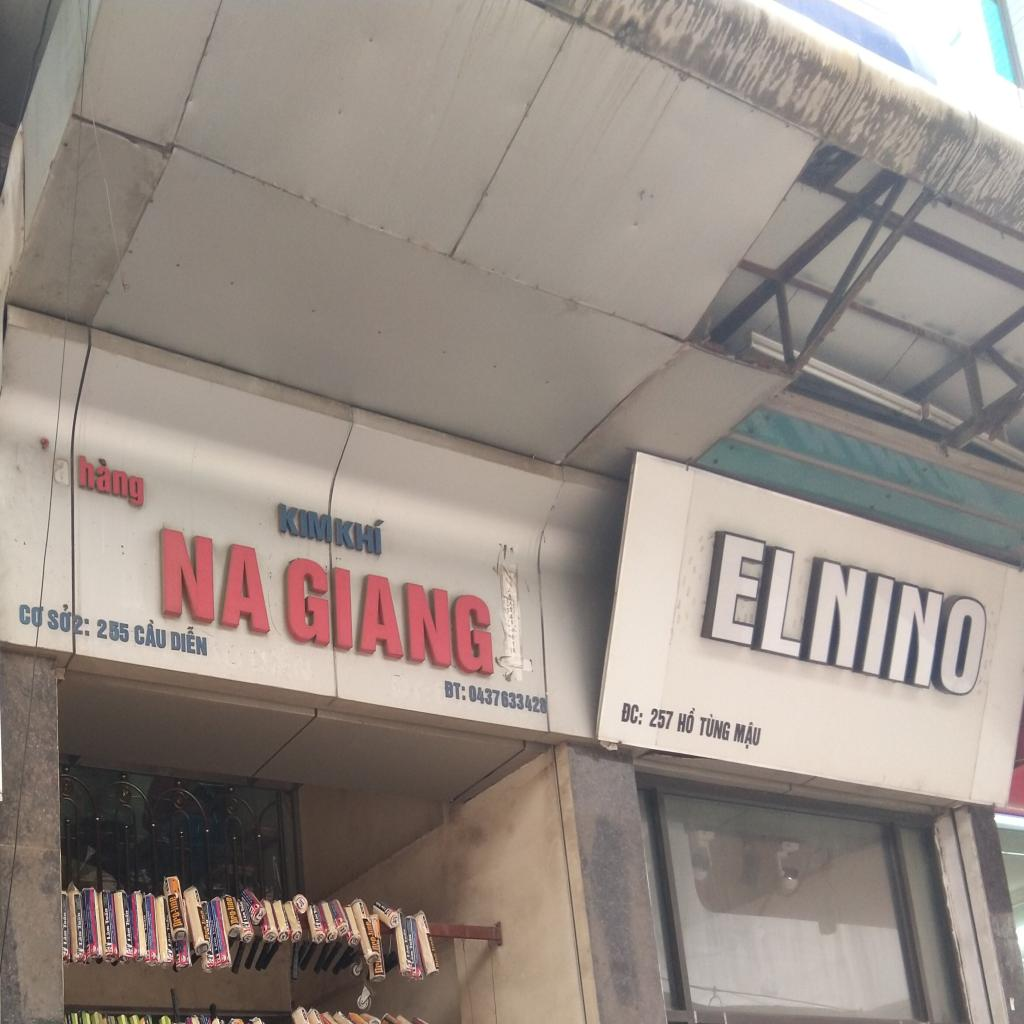text: (700, 528, 992, 700), (288, 553, 494, 674), (164, 527, 270, 632), (78, 453, 145, 509), (468, 684, 548, 715), (335, 509, 385, 556), (278, 502, 333, 544), (170, 622, 207, 657), (732, 717, 764, 753), (134, 615, 167, 649), (698, 711, 732, 743), (96, 616, 130, 644), (48, 600, 72, 634), (19, 601, 44, 629), (648, 707, 676, 731), (676, 704, 697, 735), (620, 701, 644, 727), (168, 896, 184, 930), (53, 456, 70, 487), (444, 680, 466, 702), (225, 896, 240, 926), (73, 613, 90, 638), (364, 922, 378, 946), (242, 922, 252, 935), (76, 912, 83, 930), (103, 908, 110, 926), (374, 962, 384, 974), (77, 930, 84, 946), (125, 927, 132, 943), (105, 924, 111, 942), (165, 914, 171, 932), (314, 922, 323, 934), (124, 910, 130, 927), (297, 898, 306, 909), (62, 911, 67, 930), (63, 929, 68, 946), (125, 943, 133, 953), (167, 932, 172, 948), (238, 902, 246, 912), (383, 908, 391, 918), (403, 928, 408, 944), (241, 911, 248, 922), (248, 906, 255, 917), (206, 954, 214, 963), (77, 948, 84, 958), (214, 954, 221, 964), (167, 949, 173, 958), (392, 916, 398, 925), (104, 944, 112, 950), (269, 934, 275, 942), (406, 960, 412, 968), (175, 954, 180, 963)
